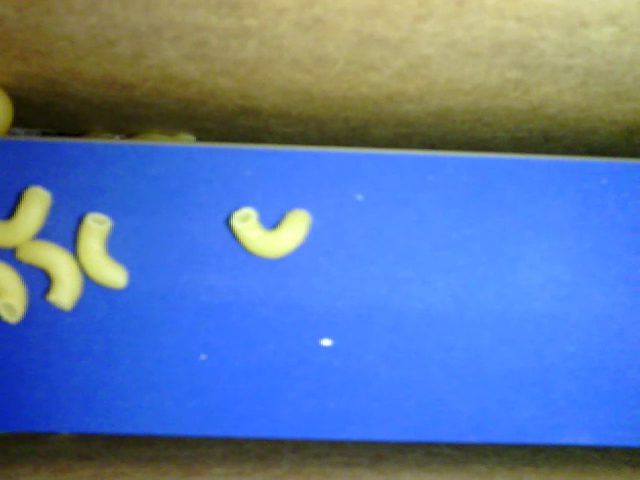elbow: (14, 239, 85, 314), (227, 209, 314, 259), (76, 213, 130, 291), (1, 185, 51, 249), (1, 265, 27, 328)
